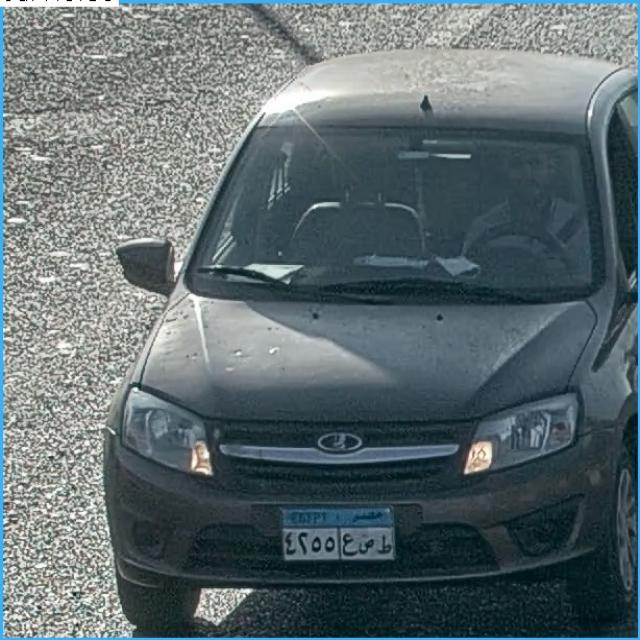windshield: (197, 130, 608, 282)
